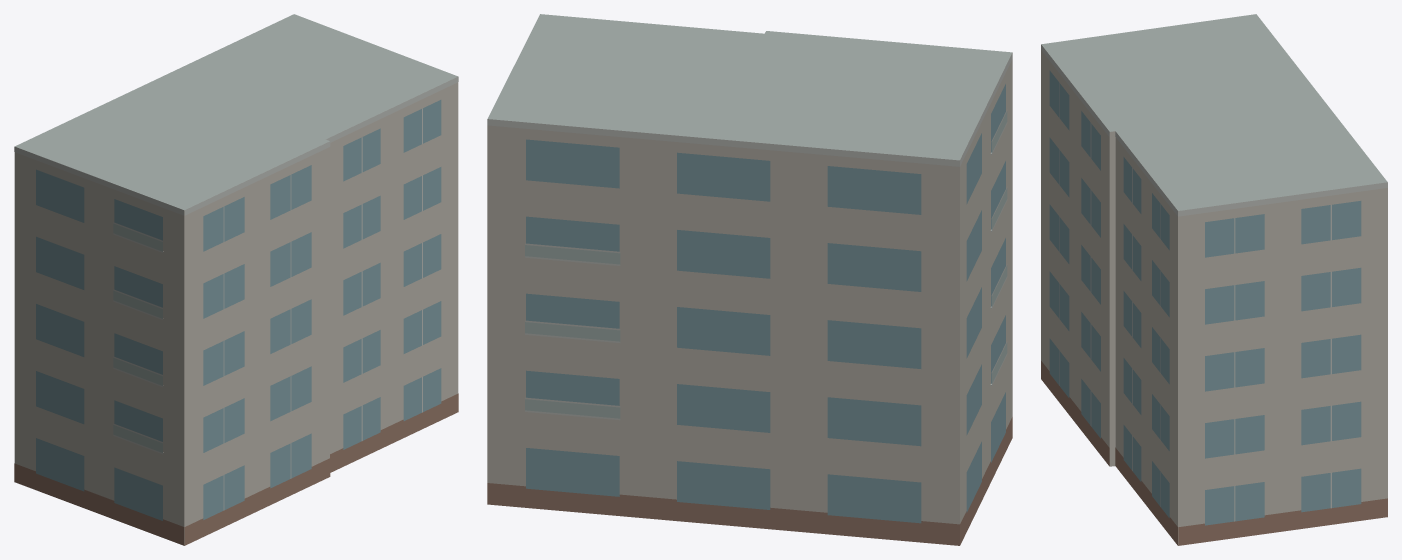
File: survey-upis-32767616.glb
3 renders of one model, left to right at view 1: azimuth 30°, elevation 25°; view 2: azimuth 150°, elevation 25°; view 3: azimuth 270°, elevation 25°, orthographic. The views are drawn at different scales.
Visible parts, largest first — view 1: survey-upis-32767616.tmp; view 2: survey-upis-32767616.tmp; view 3: survey-upis-32767616.tmp.
Boxes of the visible parts, x1,y1,x2,y2 form: survey-upis-32767616.tmp: (14,14,458,545); survey-upis-32767616.tmp: (487,14,1012,545); survey-upis-32767616.tmp: (1041,14,1387,545).
Bounding box in the file's own units: 18.56 × 14.7 × 13.81.
